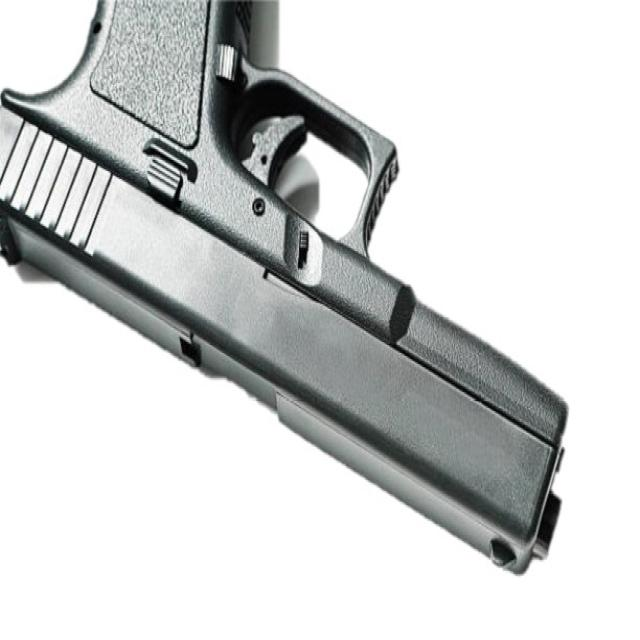pistol: (2, 1, 579, 585)
